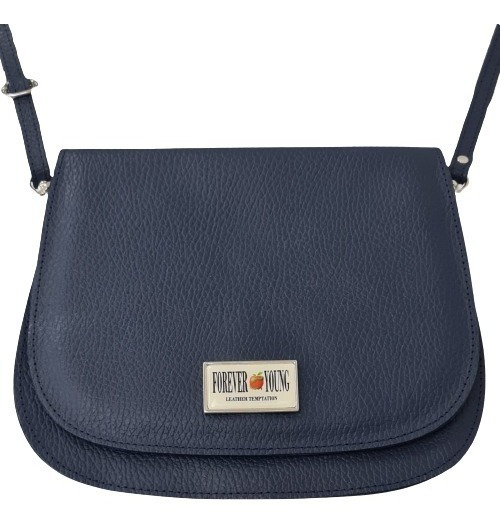cartera: (9, 140, 489, 503)
